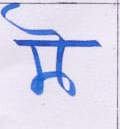e_matra: (0, 3, 73, 40)
